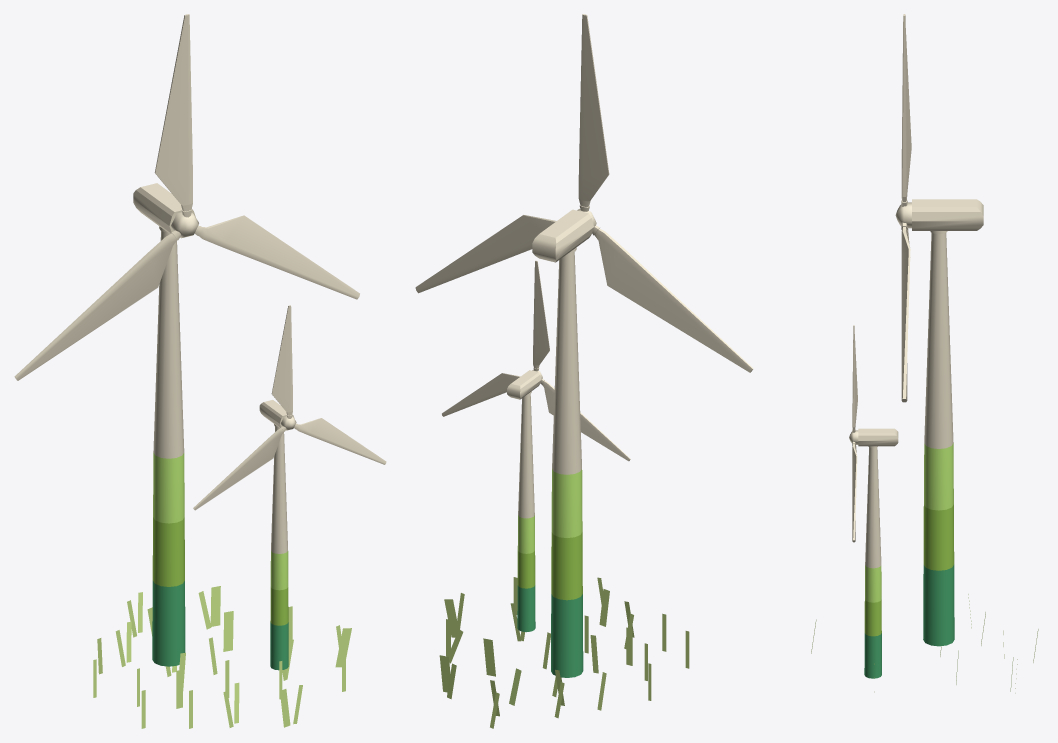
Rendered from M_Windmill_Var2_5.fbx.
3 views of the same model, side by side, from view 1: azimuth 30°, elevation 25°; view 2: azimuth 150°, elevation 25°; view 3: azimuth 270°, elevation 25° (orthographic). The views are drawn at different scales.
Visible parts, largest first — view 1: M_Windmill_Var2_5; view 2: M_Windmill_Var2_5; view 3: M_Windmill_Var2_5.
Part boxes in pixels (x1,y1,x2,y2): M_Windmill_Var2_5: [14, 14, 386, 728]; M_Windmill_Var2_5: [415, 14, 753, 728]; M_Windmill_Var2_5: [811, 14, 1038, 693].
Size of the model in its own units: 2.13 by 4.03 by 1.48.
